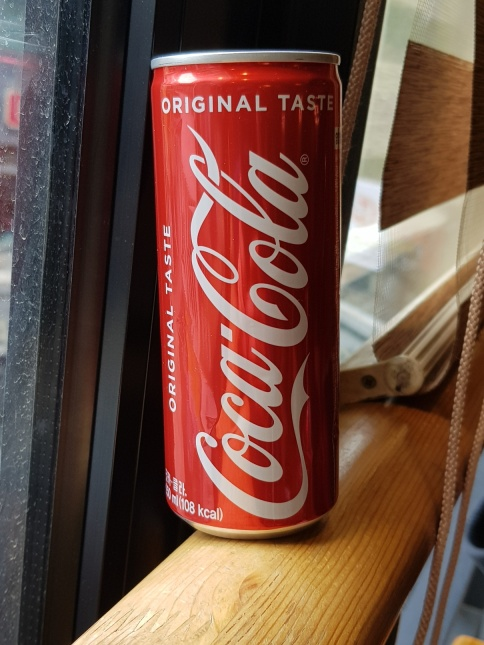Can: (148, 49, 351, 541)
